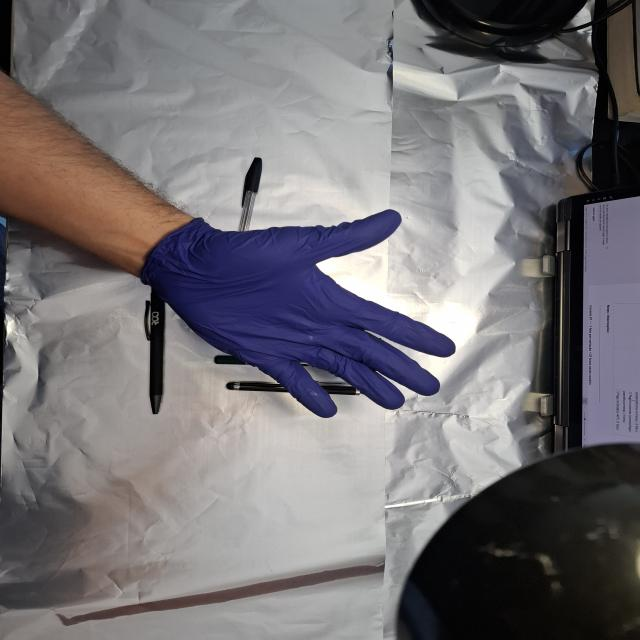glove_on: (135, 206, 460, 422)
